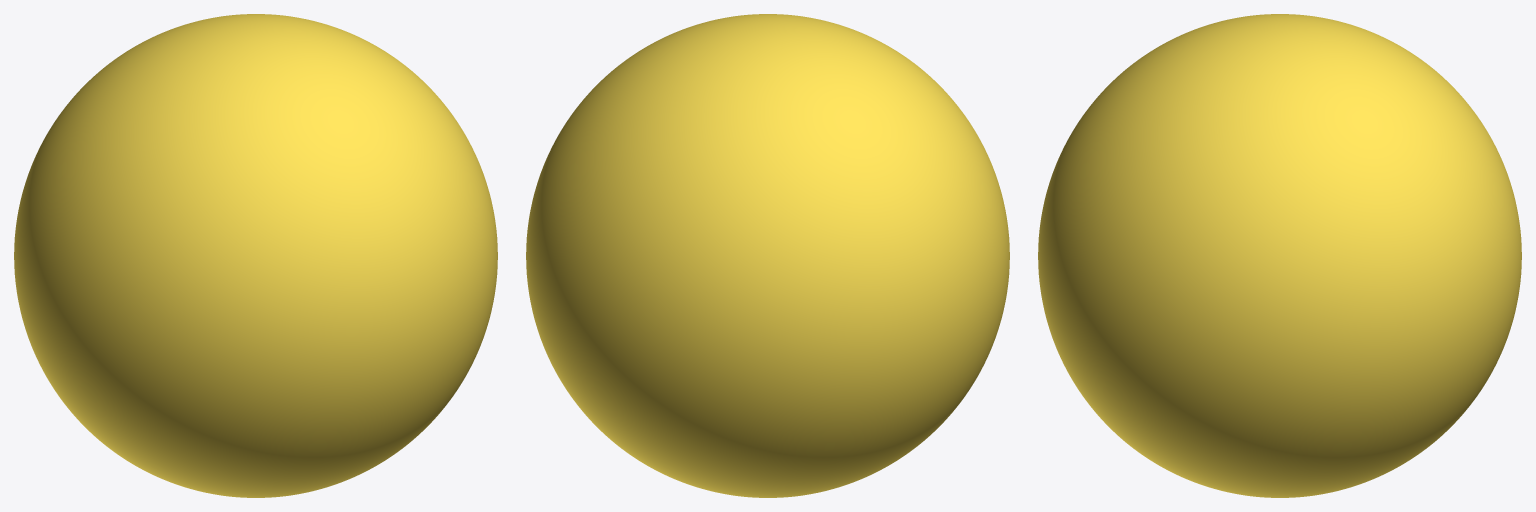
Rendered from SunHP.obj.
3 renders of one model, left to right at view 1: azimuth 30°, elevation 25°; view 2: azimuth 150°, elevation 25°; view 3: azimuth 270°, elevation 25°, orthographic.
Parts seen in each view (by area): view 1: Sun; view 2: Sun; view 3: Sun.
Part boxes in pixels (x1,y1,x2,y2): Sun: [14, 14, 497, 497]; Sun: [526, 14, 1009, 497]; Sun: [1038, 14, 1521, 497].
Bounding box in the file's own units: 0.9988 × 1 × 0.9988.
